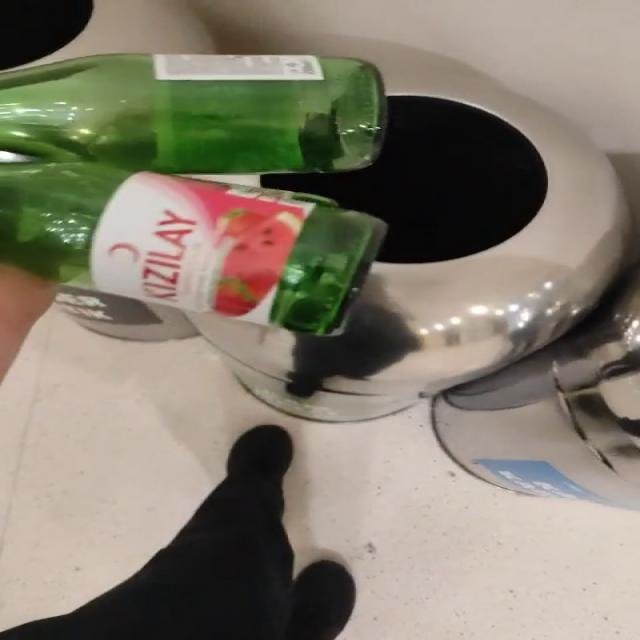bin: (2, 0, 629, 422)
glass: (1, 53, 385, 335)
